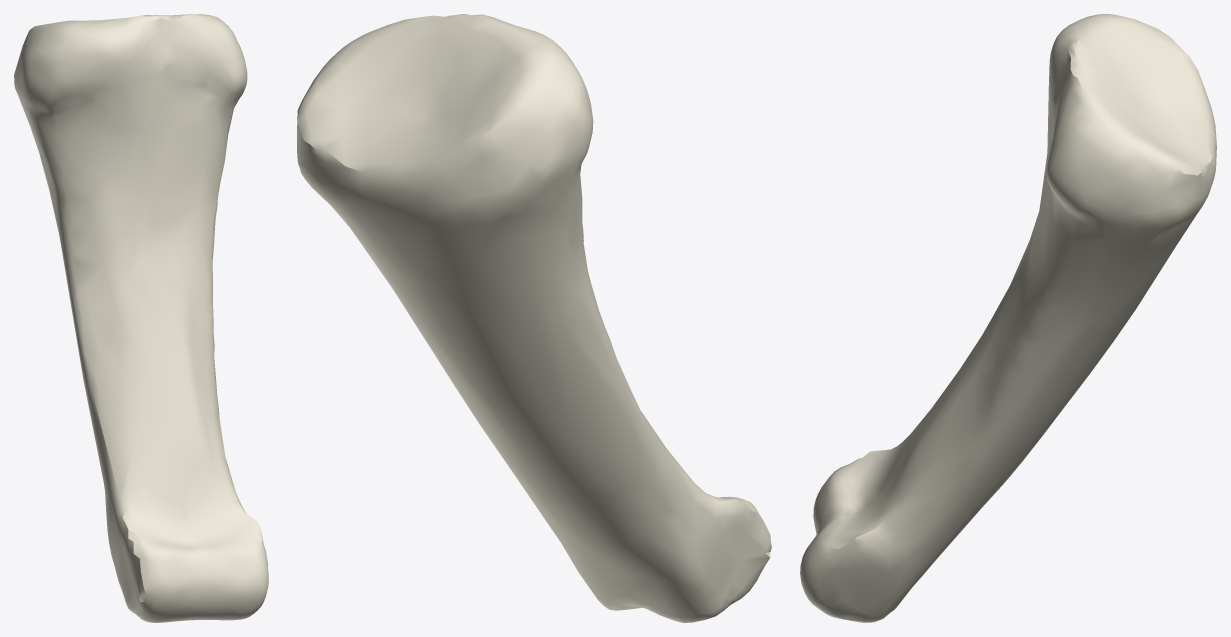
The model's file is fma66791_mm1910m.glb.
3 renders of one model, left to right at view 1: azimuth 30°, elevation 25°; view 2: azimuth 150°, elevation 25°; view 3: azimuth 270°, elevation 25°, orthographic. The views are drawn at different scales.
Visible parts, largest first — view 1: FMA66791_MM1910M; view 2: FMA66791_MM1910M; view 3: FMA66791_MM1910M.
Part boxes in pixels (box(x1,y1,x2,y2)): FMA66791_MM1910M: box(14, 14, 268, 622); FMA66791_MM1910M: box(297, 14, 771, 622); FMA66791_MM1910M: box(800, 14, 1216, 622).
Size of the model in its own units: 0.0145 by 0.0327 by 0.0211.
